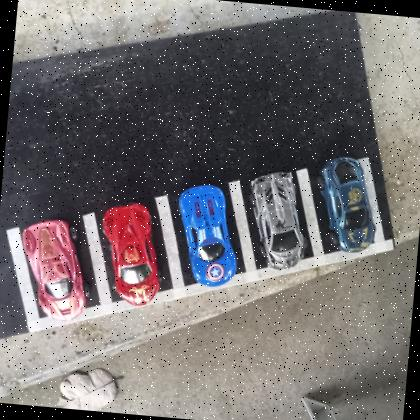Car: (15, 217, 92, 322), (94, 200, 167, 308), (172, 182, 244, 288), (312, 154, 381, 255), (243, 168, 310, 271)
